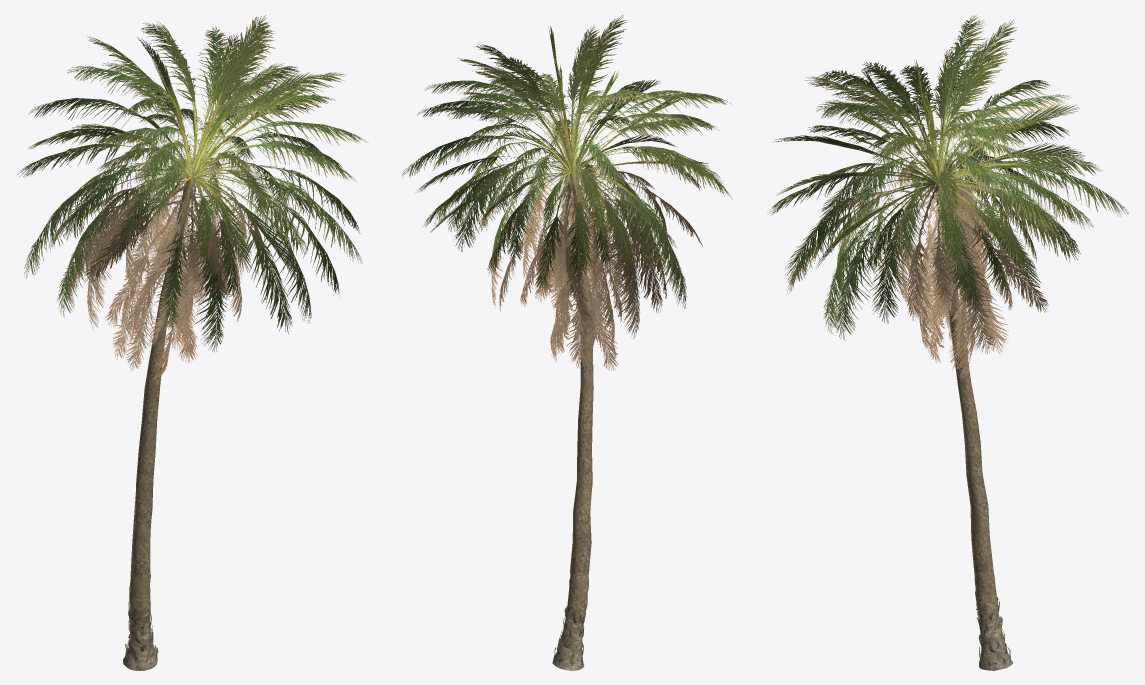
Rendered from court_palm.glb.
3 views of the same model, side by side, from view 1: azimuth 30°, elevation 25°; view 2: azimuth 150°, elevation 25°; view 3: azimuth 270°, elevation 25° (orthographic). The views are drawn at different scales.
Visible parts, largest first — view 1: Palm Tree_M_01_L, Palm Tree_M_01_T; view 2: Palm Tree_M_01_L, Palm Tree_M_01_T; view 3: Palm Tree_M_01_L, Palm Tree_M_01_T.
Boxes of the visible parts, left/top/right/bottom form: Palm Tree_M_01_L: left=17, top=15, right=368, bottom=384; Palm Tree_M_01_T: left=123, top=172, right=194, bottom=670; Palm Tree_M_01_L: left=401, top=15, right=732, bottom=386; Palm Tree_M_01_T: left=552, top=171, right=593, bottom=670; Palm Tree_M_01_L: left=767, top=15, right=1128, bottom=380; Palm Tree_M_01_T: left=936, top=188, right=1012, bottom=670.
Size of what is drawn, in the model's own units: 2.86 by 5.5 by 2.92.
Materials: 4 (4 with a texture image).
